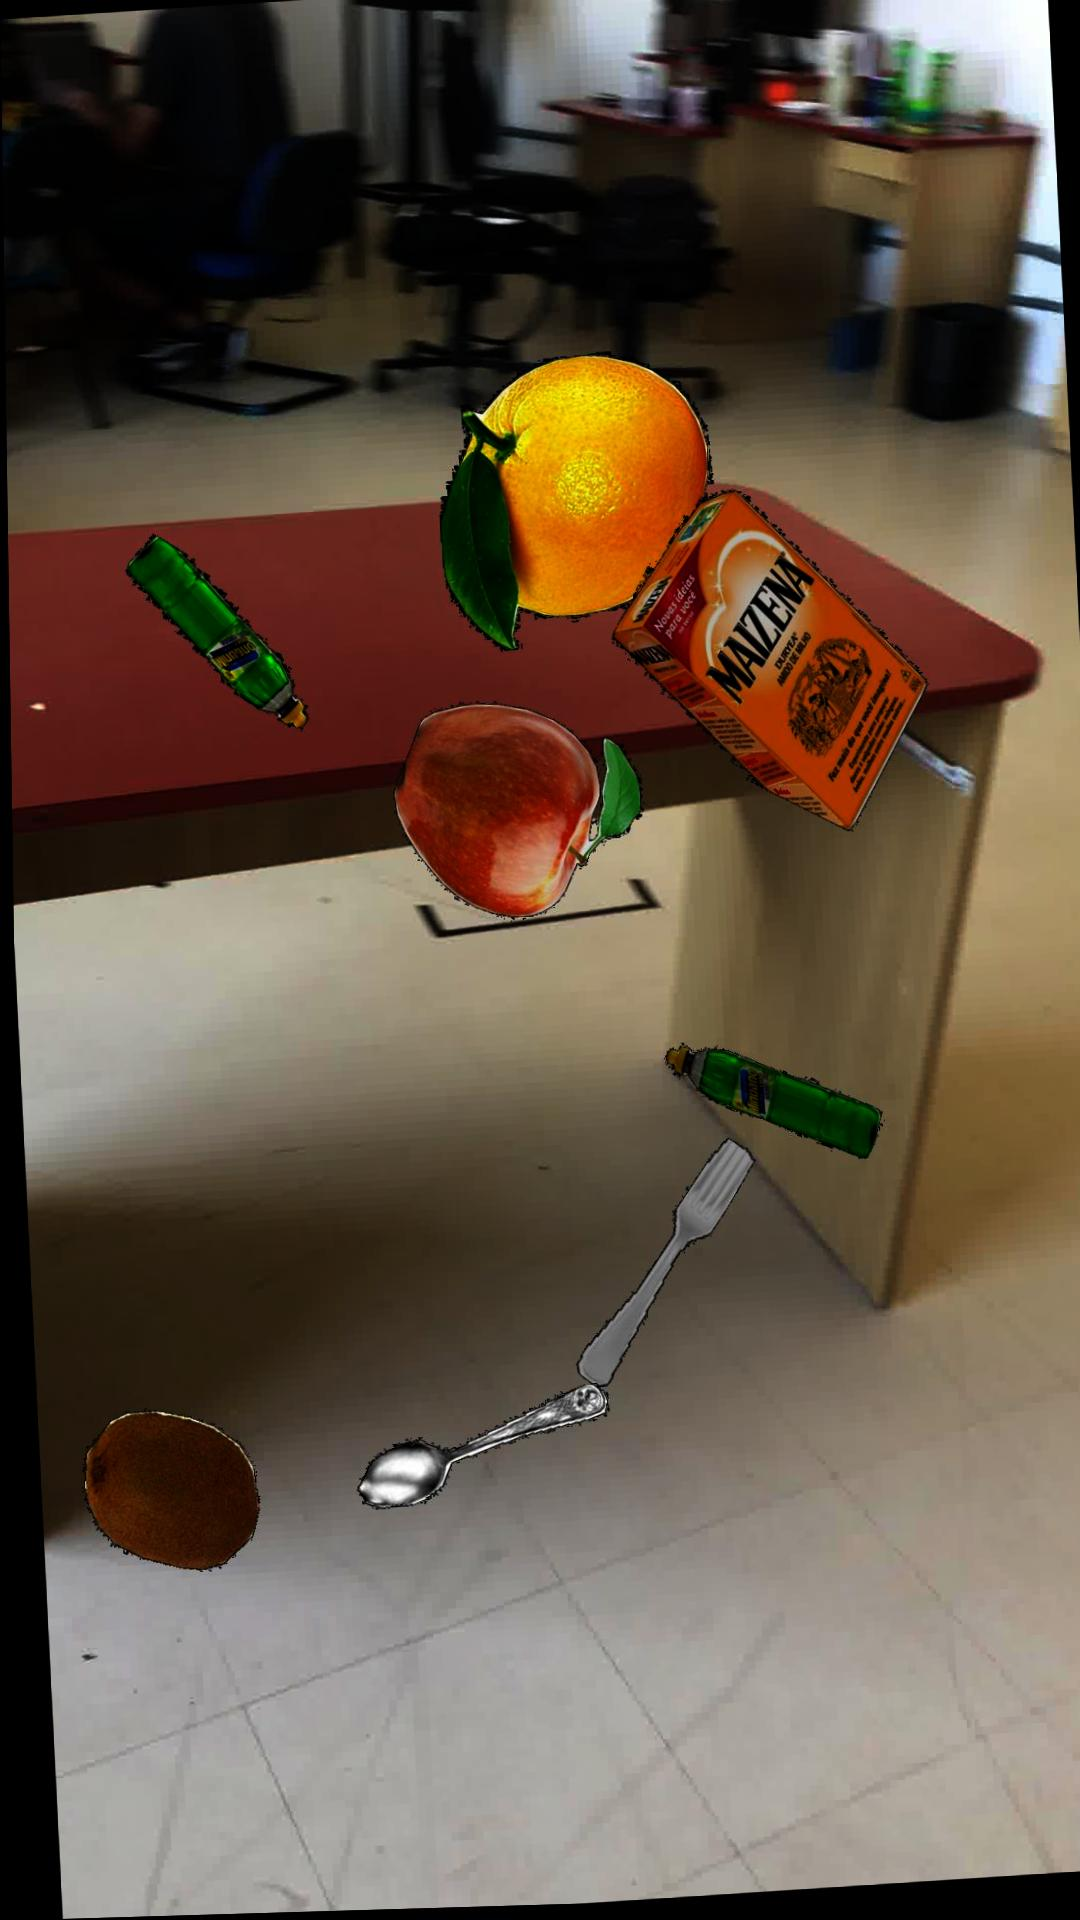apple: (392, 704, 641, 920)
cleaner: (124, 533, 307, 731), (662, 1048, 880, 1162)
fork: (572, 1141, 752, 1387)
kiwi: (79, 1407, 256, 1569)
orange: (438, 353, 712, 653)
spoon: (352, 1385, 604, 1509)
